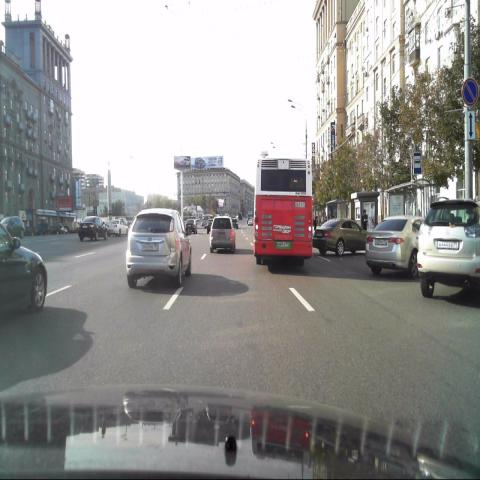8_2_4: (467, 109, 475, 141)
